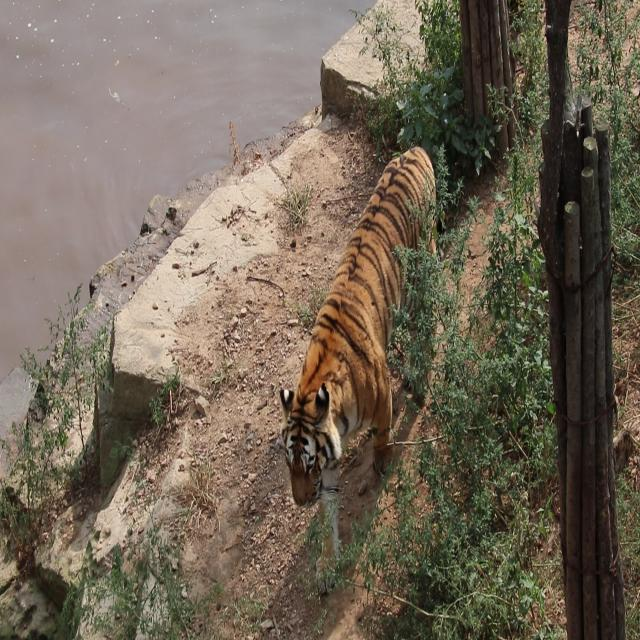Tiger: (256, 106, 482, 621)
